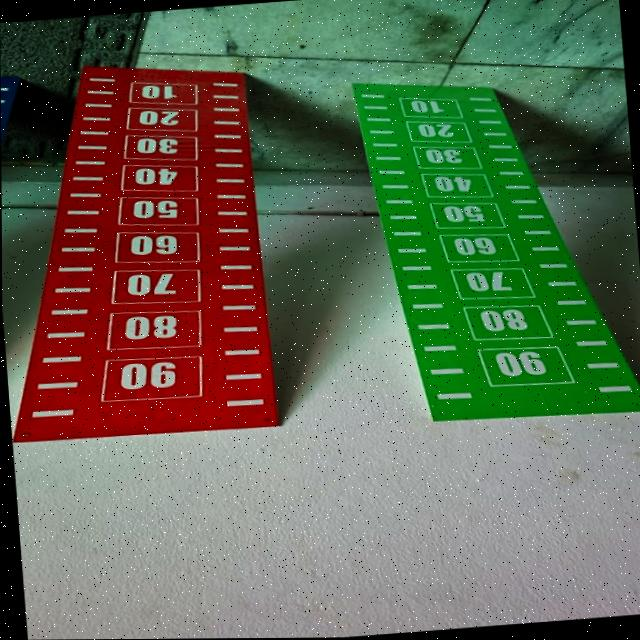water-meter: (0, 39, 309, 469), (327, 40, 640, 447)
